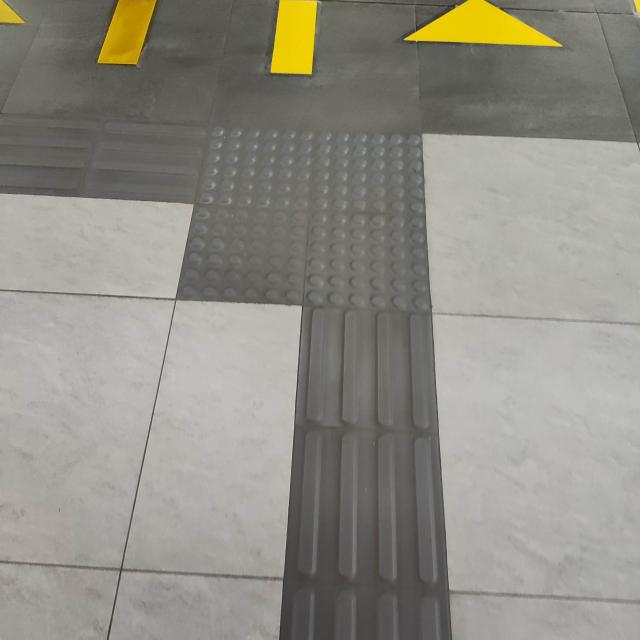kiri: (35, 94, 561, 410)
